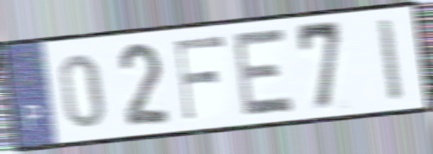0: (56, 51, 109, 129)
2: (116, 40, 174, 130)
7: (293, 19, 346, 116)
E: (232, 25, 298, 120)
F: (173, 33, 227, 124)
I: (375, 15, 406, 105)
